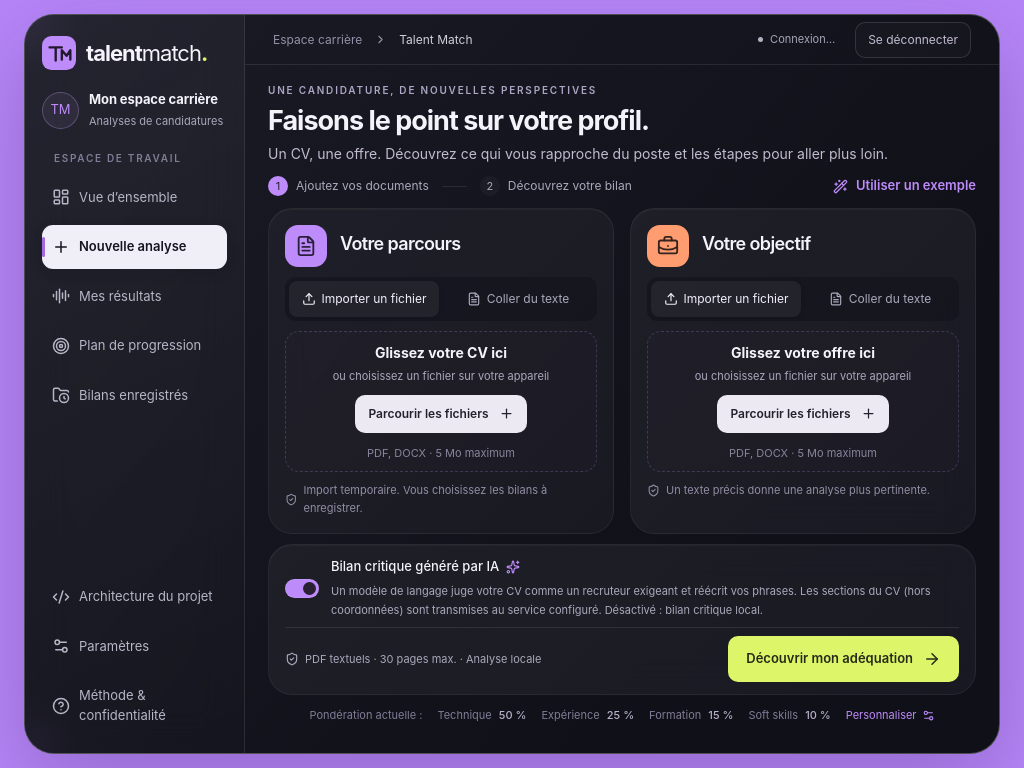
Test case: Independent result provenance review › keeps a newer request active when a cancelled older request finishes
The width and height of the screenshot is (1024, 768).
Later steps or results of the test are not shown.
Click the button "Utiliser un exemple": (904, 186) [833,176,976,196]
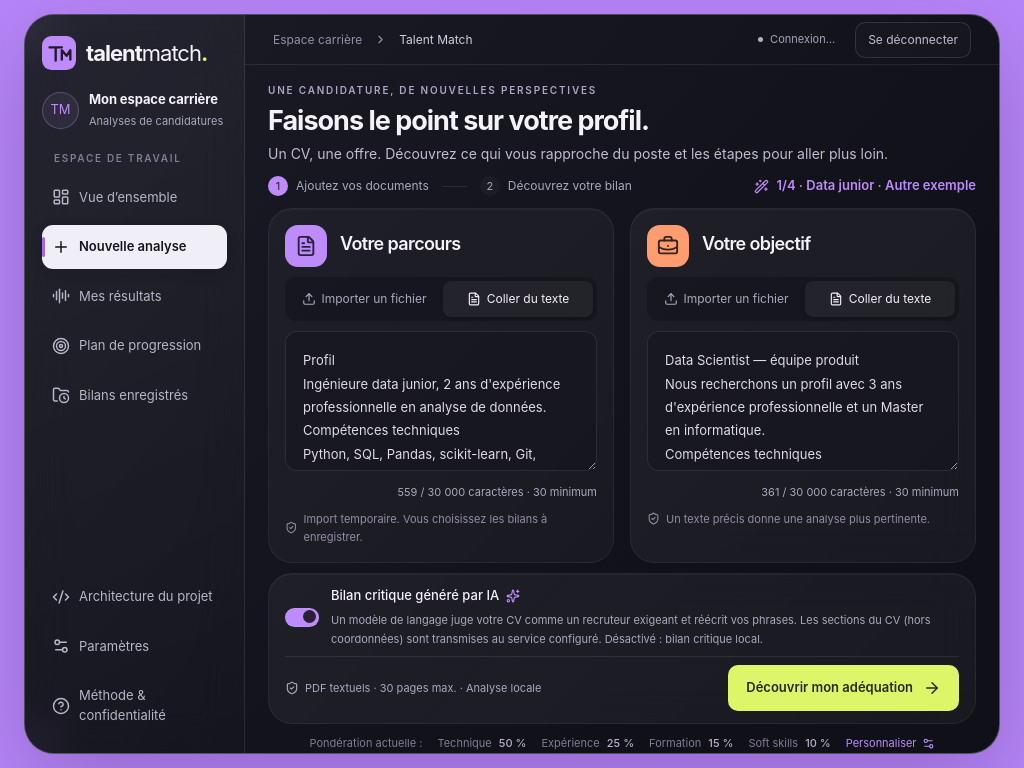
Click the button "Découvrir mon adéquation": (844, 688) [728,665,959,710]
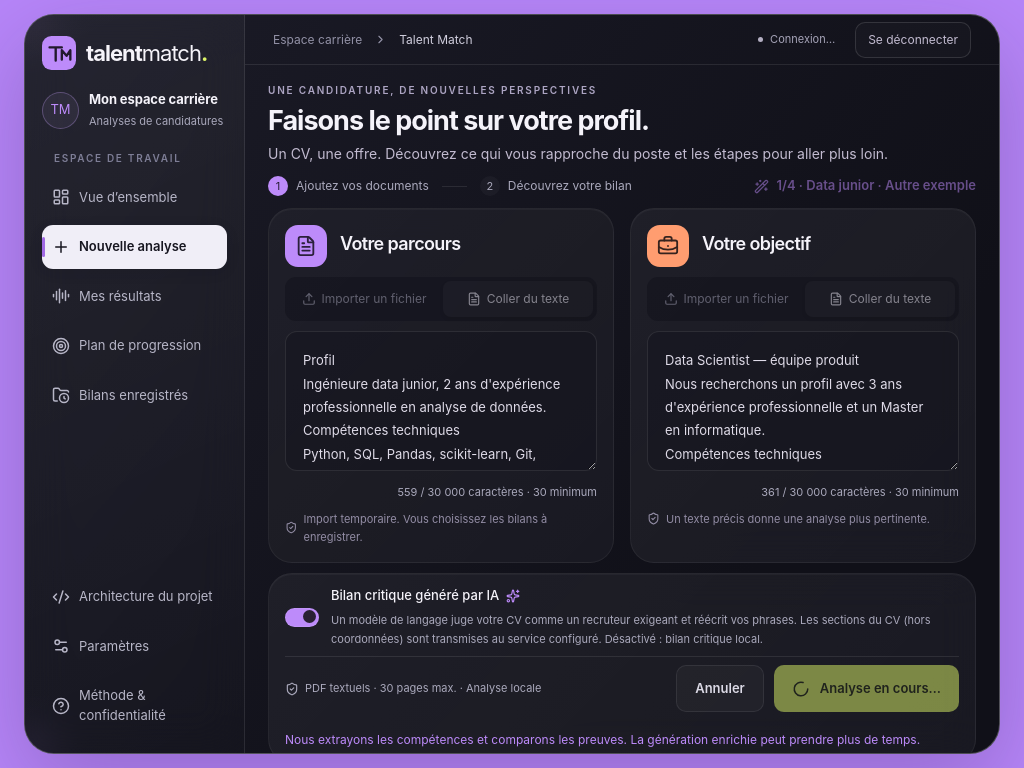
Click the button "Annuler": (720, 689) [676,665,764,712]
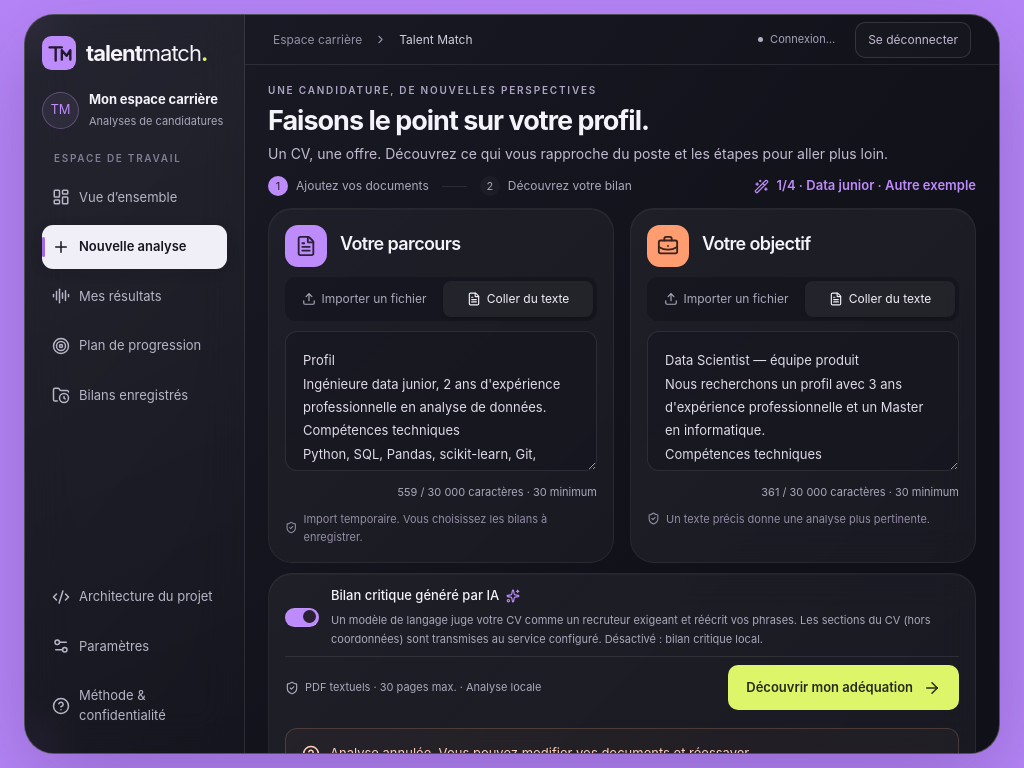
Click the button "Découvrir mon adéquation": (844, 688) [728,665,959,710]
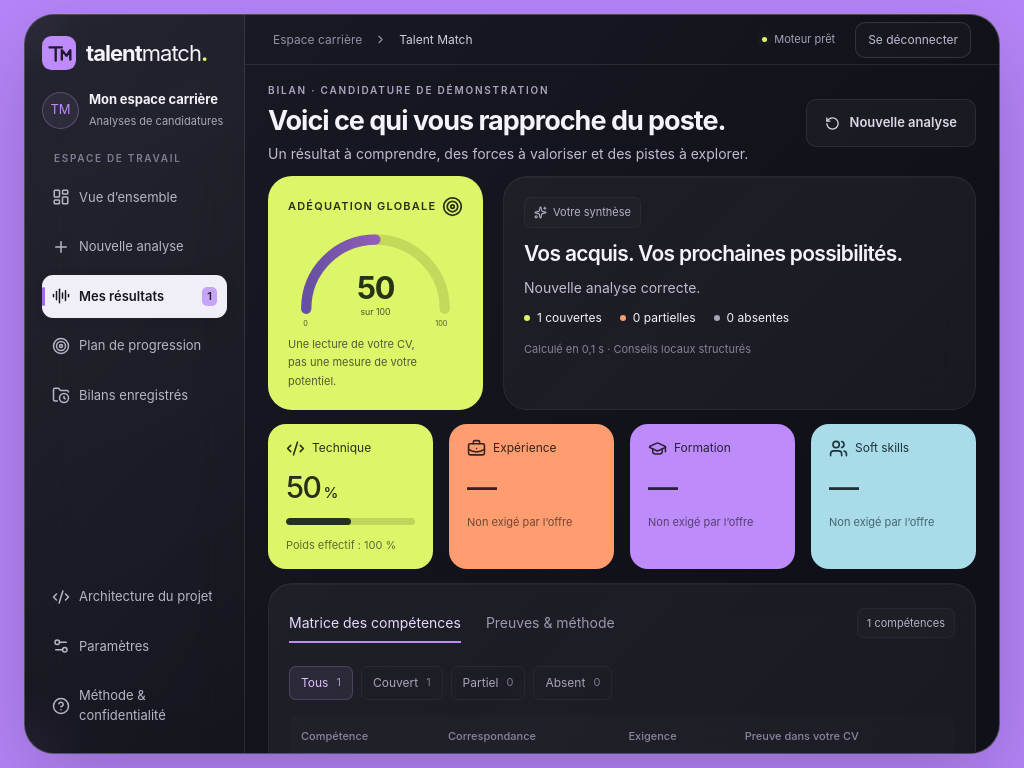
expect the text "Nouvelle analyse correcte." is shown: met, box [524,279,700,296]
